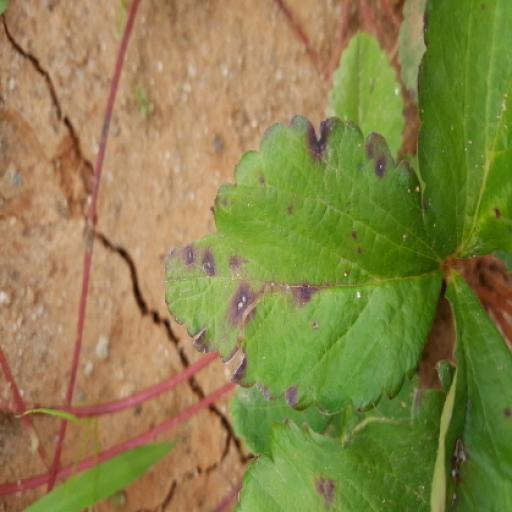Leaf Spot: (163, 115, 444, 414), (232, 360, 456, 511), (415, 0, 511, 257), (433, 268, 511, 511)
